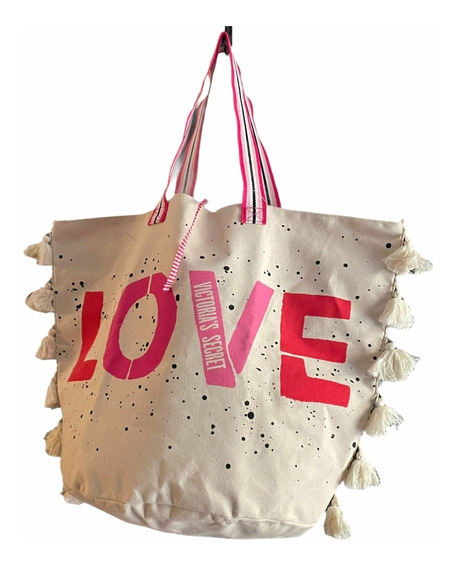cartera: (26, 25, 429, 539)
